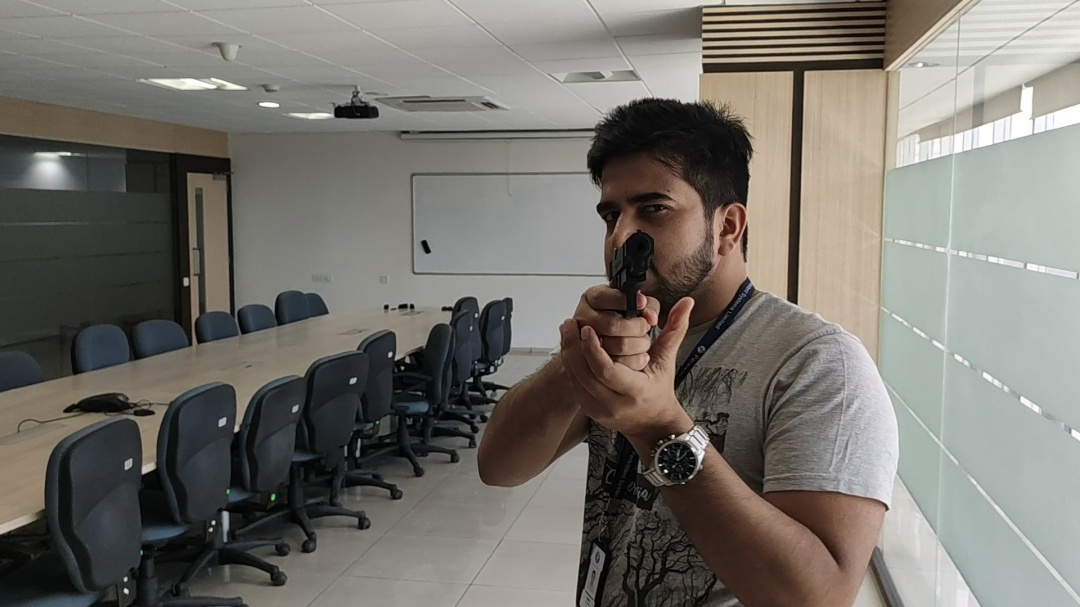gun: (608, 228, 655, 289)
